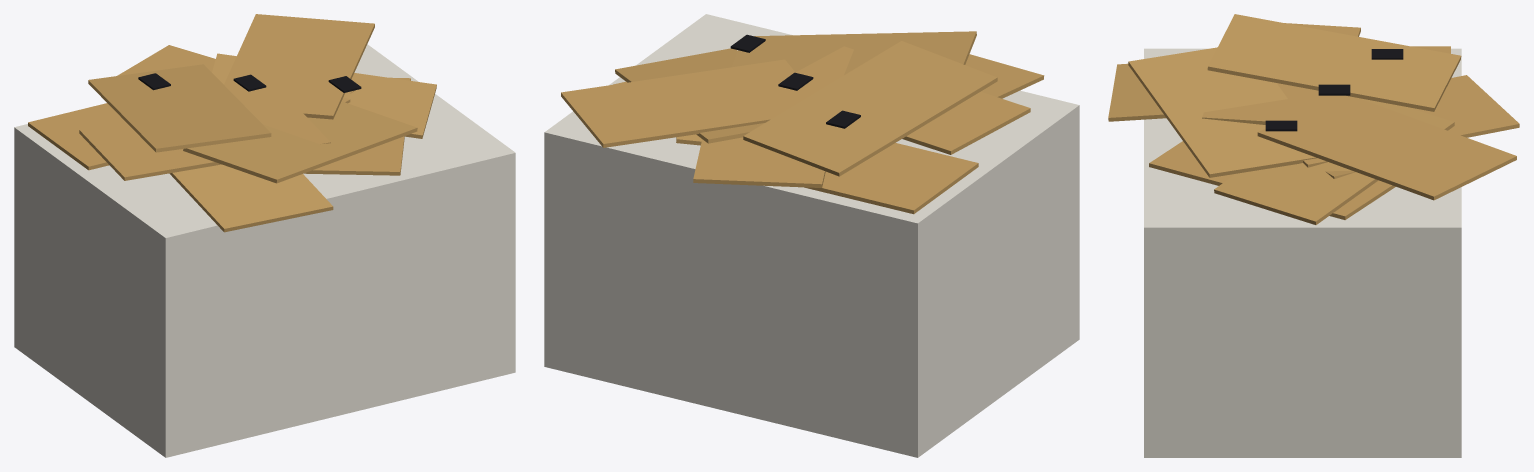
The model's file is bribe_envelopes.glb.
The picture shows the model from 3 angles, left to right: view 1: azimuth 30°, elevation 25°; view 2: azimuth 150°, elevation 25°; view 3: azimuth 270°, elevation 25°; orthographic projection. The views are drawn at different scales.
Visible parts, largest first — view 1: box_box_white, envelopes_envelope (×9); view 2: box_box_white, envelopes_envelope (×8); view 3: box_box_white, envelopes_envelope (×8).
Part boxes in pixels (<box>): box_box_white: <box>14,44,515,457</box>; envelopes_envelope (×9): <box>28,14,436,232</box>; box_box_white: <box>544,14,1079,457</box>; envelopes_envelope (×8): <box>561,31,1044,214</box>; box_box_white: <box>1144,48,1461,457</box>; envelopes_envelope (×8): <box>1108,14,1519,224</box>.
Bounding box in the file's own units: 0.4038 × 0.294 × 0.3886.
